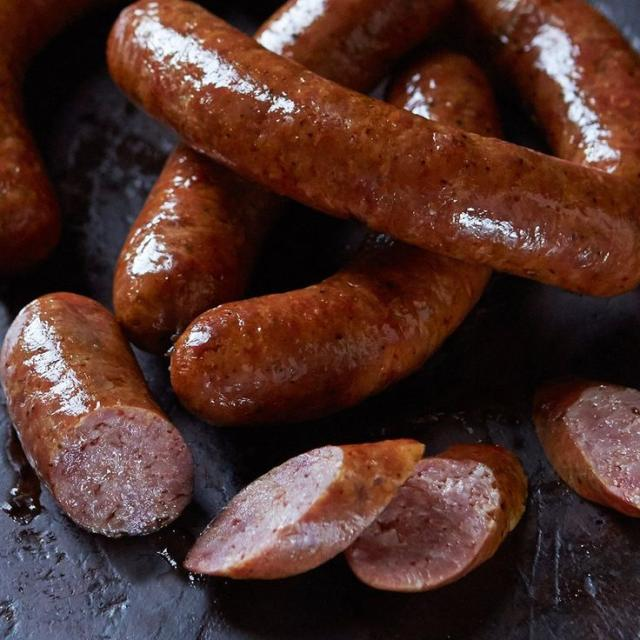sausage: (108, 0, 639, 294), (171, 236, 489, 425), (0, 294, 193, 536), (114, 145, 284, 352), (114, 144, 282, 353), (185, 440, 424, 579), (462, 0, 639, 183), (0, 0, 106, 274), (346, 445, 526, 592), (256, 0, 453, 92), (534, 379, 639, 517)
